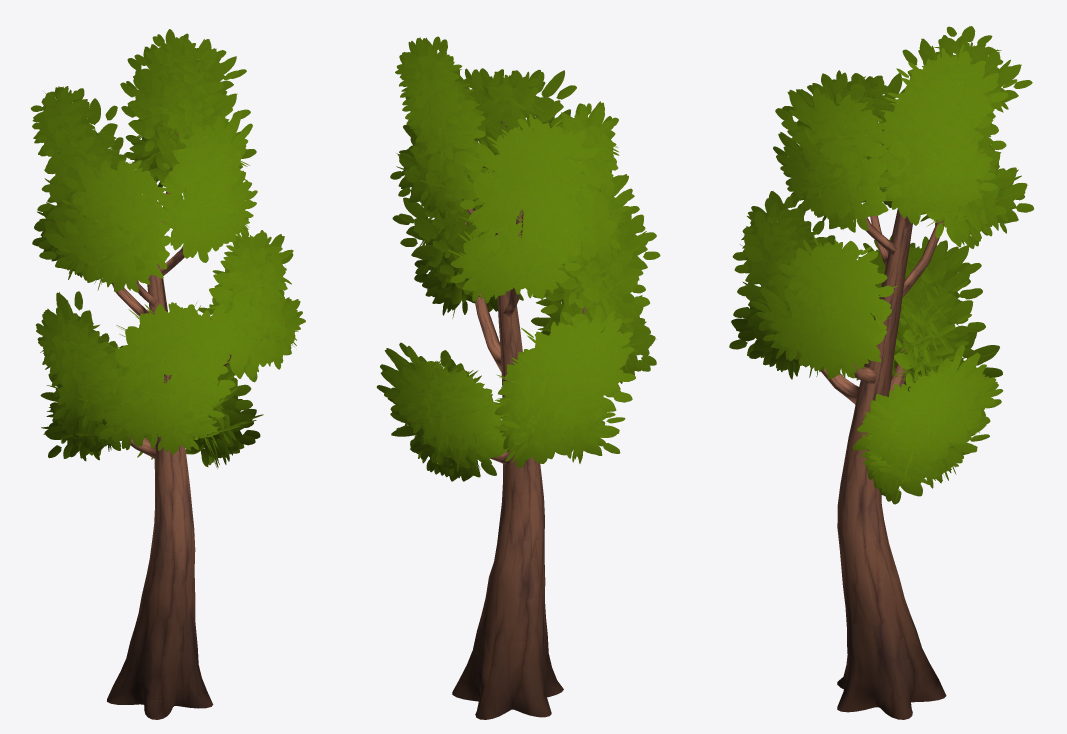
File: CommonTree_3.glb
The picture shows the model from 3 angles, left to right: view 1: azimuth 30°, elevation 25°; view 2: azimuth 150°, elevation 25°; view 3: azimuth 270°, elevation 25°; orthographic projection. The views are drawn at different scales.
Visible parts, largest first — view 1: CommonTree_3; view 2: CommonTree_3; view 3: CommonTree_3.
Boxes of the visible parts, left/top/right/bottom form: CommonTree_3: left=30, top=29, right=305, bottom=719; CommonTree_3: left=376, top=36, right=660, bottom=719; CommonTree_3: left=729, top=26, right=1033, bottom=719.
Size of the model in its own units: 4.06 by 9.43 by 4.24.
Materials: 2 (2 with a texture image).
